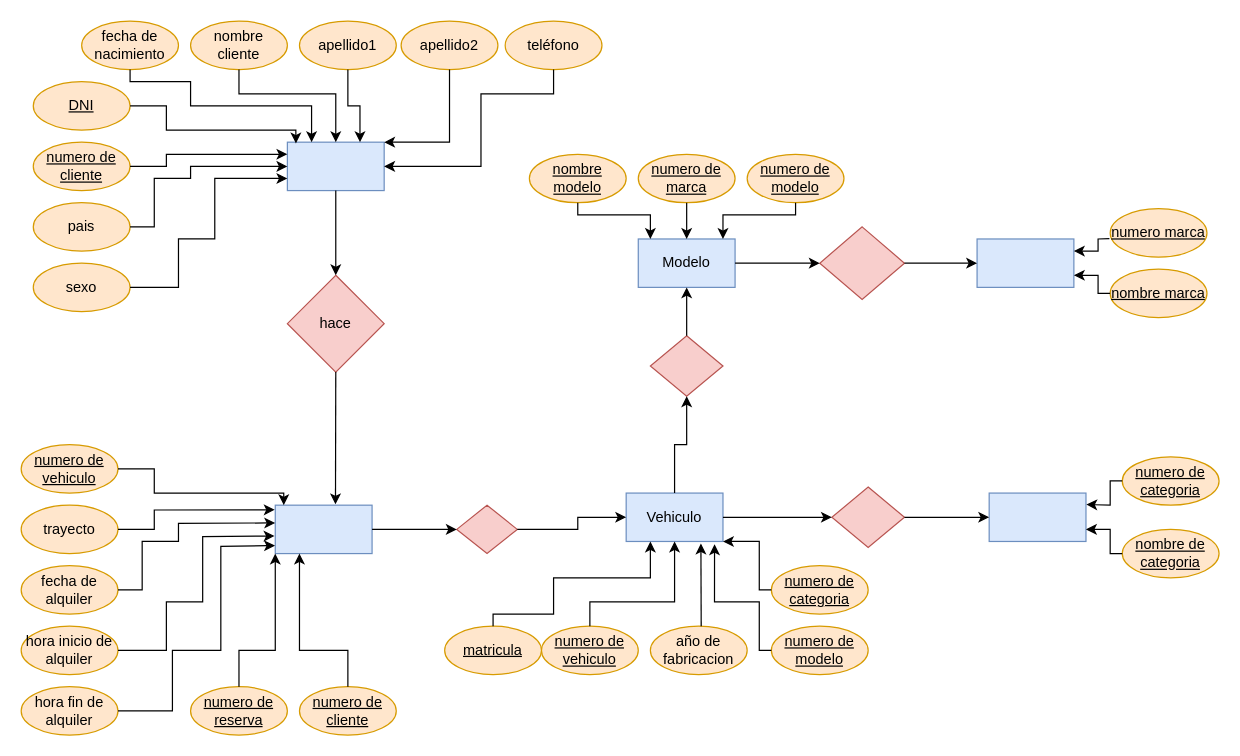
Image size: 1240x756. Some labels were removed from this diagram. Each missing label, with the centre of its shape:
Categoria: pixel 1037 516
Cliente: pixel 335 166
definido por: pixel 867 517
fabricado por: pixel 861 262
guarda: pixel 486 529
Marca: pixel 1025 262
Reserva: pixel 323 529
tiene: pixel 686 365
